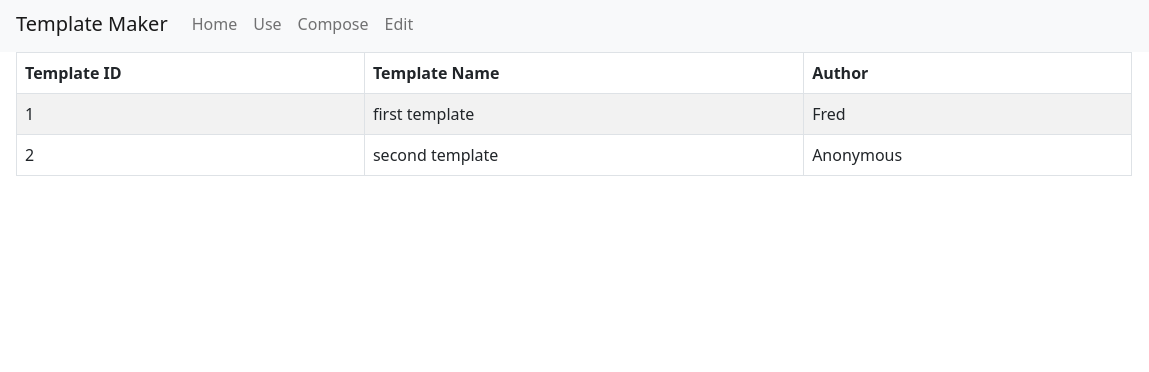
Isoloated template table - use › clicking on template opens that template
Click the row "1 first template Fred".
click(575, 115)  # box [17,94,1132,135]
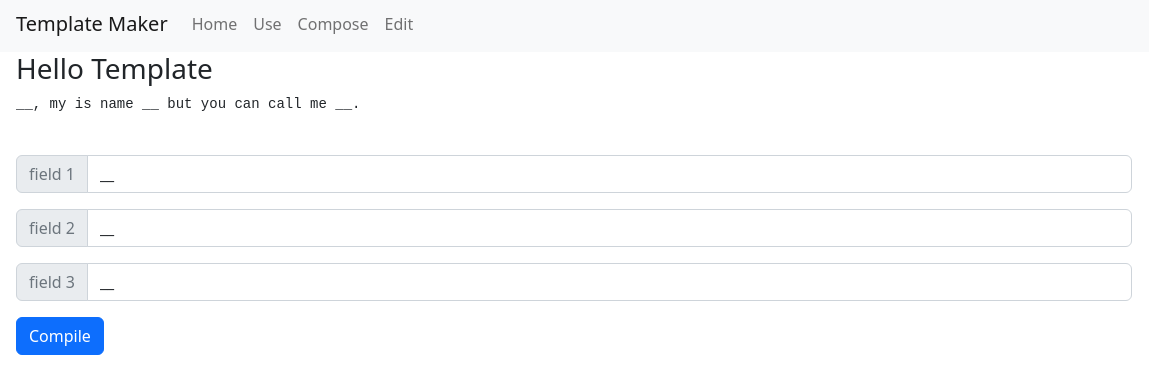
Check: the heading "Hello Template" is shown, box [16,49,213,87]
Check: the text "__, my is name __ but you can call me __." is shown, box [16,96,360,112]
Check: the text "field 1" is shown, box [16,155,88,193]
